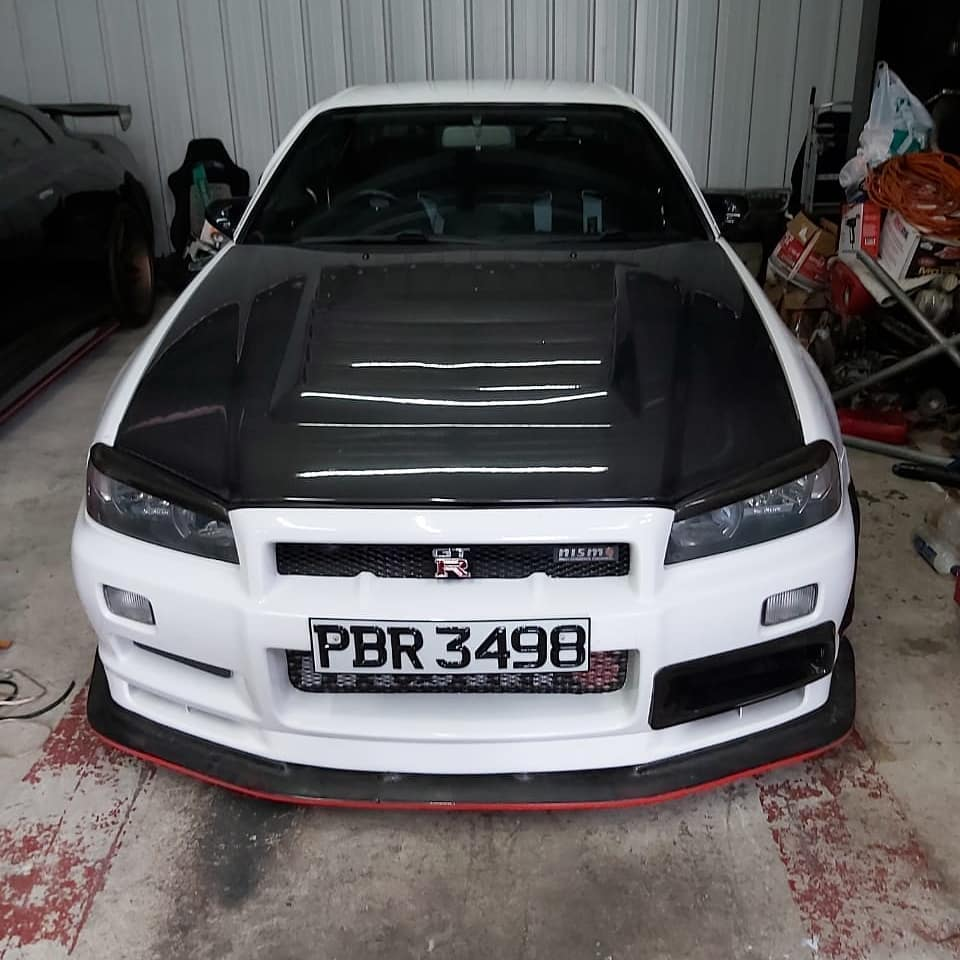License-Plate: (312, 619, 589, 670)
